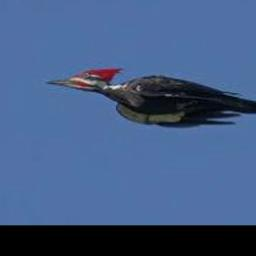Woodpecker: (46, 67, 256, 127)
